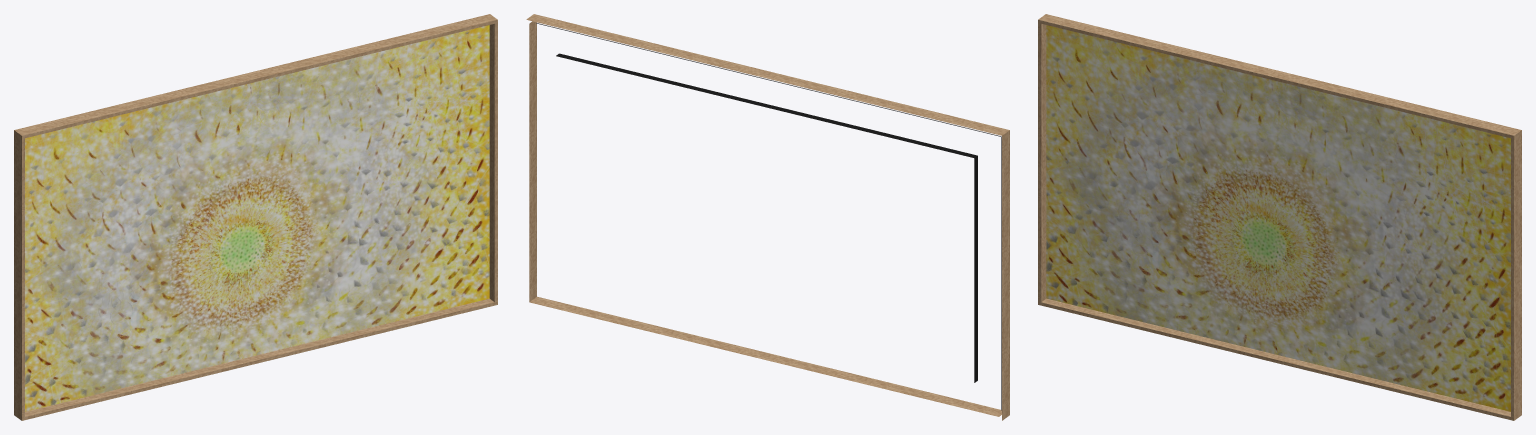
The model's file is hz005_grand_caisse-chene.glb.
The picture shows the model from 3 angles, left to right: view 1: azimuth 30°, elevation 25°; view 2: azimuth 150°, elevation 25°; view 3: azimuth 330°, elevation 25°; orthographic projection.
Visible parts, largest first — view 1: hz005_grand_caisse-chene; view 2: hz005_grand_caisse-chene; view 3: hz005_grand_caisse-chene.
Part boxes in pixels (bbox=[...]): hz005_grand_caisse-chene: bbox=[14, 14, 497, 420]; hz005_grand_caisse-chene: bbox=[526, 14, 1009, 420]; hz005_grand_caisse-chene: bbox=[1038, 14, 1521, 420].
Bounding box in the file's own units: 1.23 × 0.703 × 0.035.
4 materials, 2 textured.
